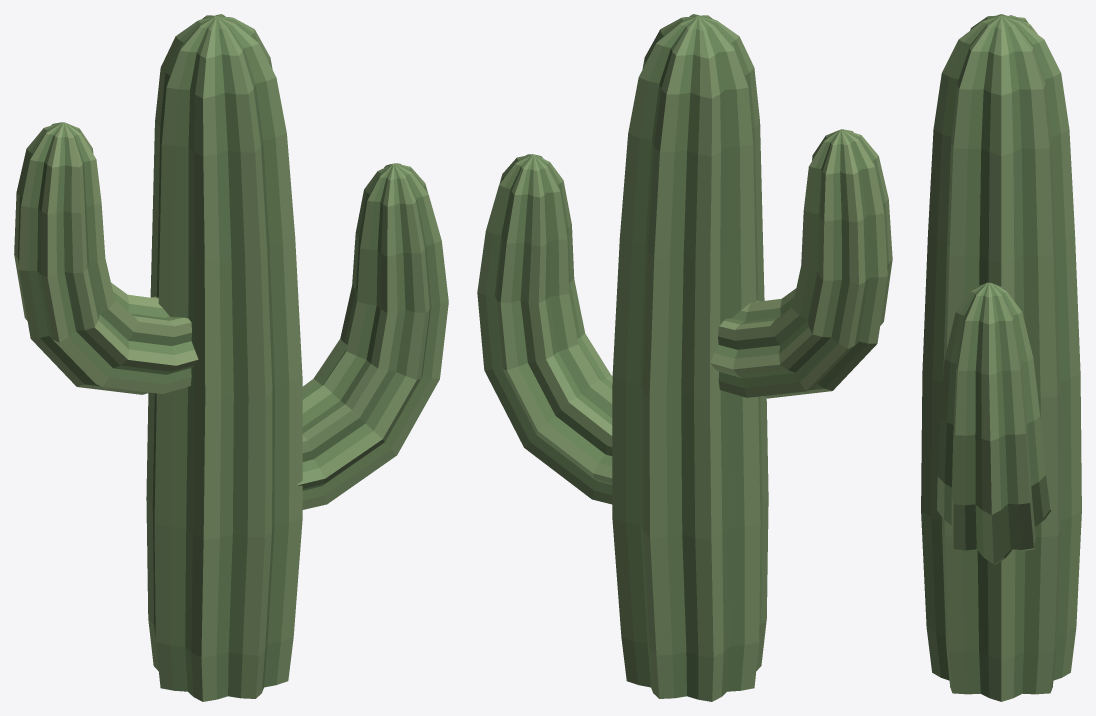
The picture shows the model from 3 angles, left to right: view 1: azimuth 30°, elevation 25°; view 2: azimuth 150°, elevation 25°; view 3: azimuth 270°, elevation 25°; orthographic projection.
Parts seen in each view (by area): view 1: WholeTaperedRibbedCentralColumn, WholeLowerContinuouslyCurvedRibbedArm, WholeHigherContinuouslyCurvedRibbedArm; view 2: WholeTaperedRibbedCentralColumn, WholeLowerContinuouslyCurvedRibbedArm, WholeHigherContinuouslyCurvedRibbedArm; view 3: WholeTaperedRibbedCentralColumn, WholeLowerContinuouslyCurvedRibbedArm.
Boxes of the visible parts, x1,y1,x2,y2 form: WholeTaperedRibbedCentralColumn: (146,14,302,701); WholeLowerContinuouslyCurvedRibbedArm: (296,163,448,509); WholeHigherContinuouslyCurvedRibbedArm: (14,122,198,394); WholeTaperedRibbedCentralColumn: (612,14,768,701); WholeLowerContinuouslyCurvedRibbedArm: (477,154,612,504); WholeHigherContinuouslyCurvedRibbedArm: (710,129,892,398); WholeTaperedRibbedCentralColumn: (921,14,1081,701); WholeLowerContinuouslyCurvedRibbedArm: (937,282,1051,564).
Size of the model in its own units: 1.72 by 2.6 by 0.58.
